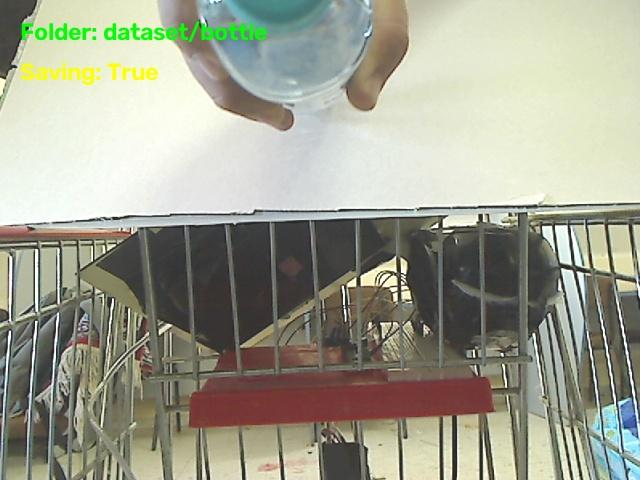can: (200, 3, 373, 106)
